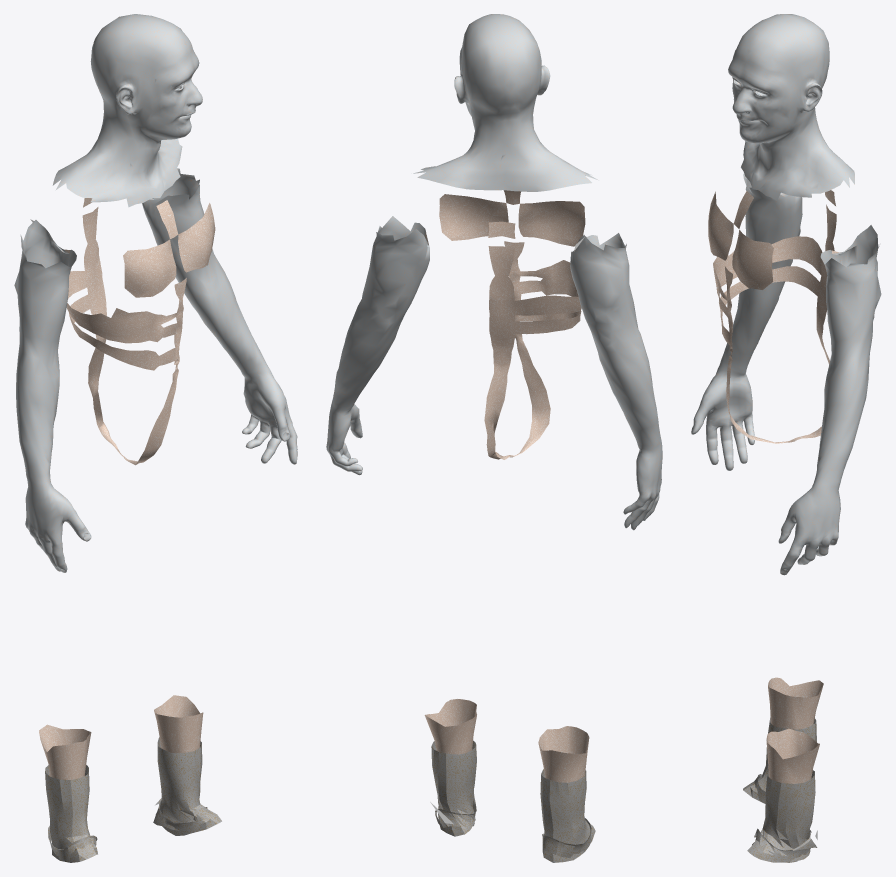
The model's file is skin.dae.
3 views of the same model, side by side, from view 1: azimuth 30°, elevation 25°; view 2: azimuth 150°, elevation 25°; view 3: azimuth 270°, elevation 25° (orthographic).
Visible parts, largest first — view 1: group_4, group_4_002, group_4_001, group_5_004, group_0_008, group_0_009, group_5_014, group_5_010, group_5_013, group_5_011, group_0_006; view 2: group_4, group_4_002, group_4_001, group_5_004, group_0_009, group_0_008, group_5_014, group_5_011, group_5_013, group_5_010, group_0_007; view 3: group_4, group_4_001, group_4_002, group_5_004, group_0_008, group_5_010, group_5_013, group_5_011, group_5_014, group_0_006, group_0_009.
Part boxes in pixels (<box>): group_4: <box>52,14,202,207</box>; group_4_002: <box>14,220,91,572</box>; group_4_001: <box>142,168,297,464</box>; group_5_004: <box>66,207,186,465</box>; group_0_008: <box>153,737,221,831</box>; group_0_009: <box>45,765,97,862</box>; group_5_014: <box>123,239,176,297</box>; group_5_010: <box>154,695,203,753</box>; group_5_013: <box>39,724,91,779</box>; group_5_011: <box>178,203,215,272</box>; group_0_006: <box>155,798,211,835</box>; group_4: <box>413,14,598,191</box>; group_4_002: <box>570,233,662,530</box>; group_4_001: <box>326,216,429,475</box>; group_5_004: <box>484,241,581,459</box>; group_0_009: <box>540,769,595,862</box>; group_0_008: <box>431,740,476,836</box>; group_5_014: <box>518,201,585,246</box>; group_5_011: <box>439,194,508,240</box>; group_5_013: <box>538,726,589,782</box>; group_5_010: <box>424,699,476,754</box>; group_0_007: <box>542,818,591,857</box>; group_4: <box>728,14,854,200</box>; group_4_001: <box>778,225,881,575</box>; group_4_002: <box>691,173,802,470</box>; group_5_004: <box>713,204,836,443</box>; group_0_008: <box>747,770,815,862</box>; group_5_010: <box>766,728,819,783</box>; group_5_013: <box>768,677,823,729</box>; group_5_011: <box>732,230,773,289</box>; group_5_014: <box>708,191,733,260</box>; group_0_006: <box>754,828,817,862</box>; group_0_009: <box>743,717,816,802</box>.
Size of the model in its own units: 0.661 by 0.3658 by 1.73.
